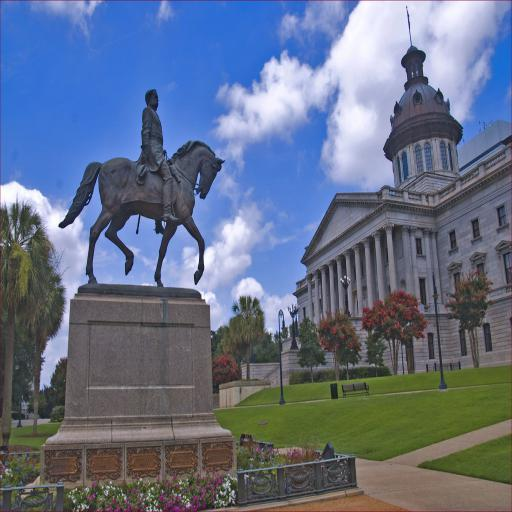Horse: (58, 138, 226, 286)
